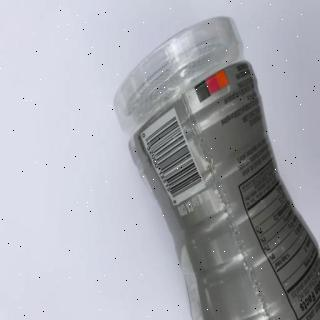Plastic-bottle: (113, 15, 320, 320)
